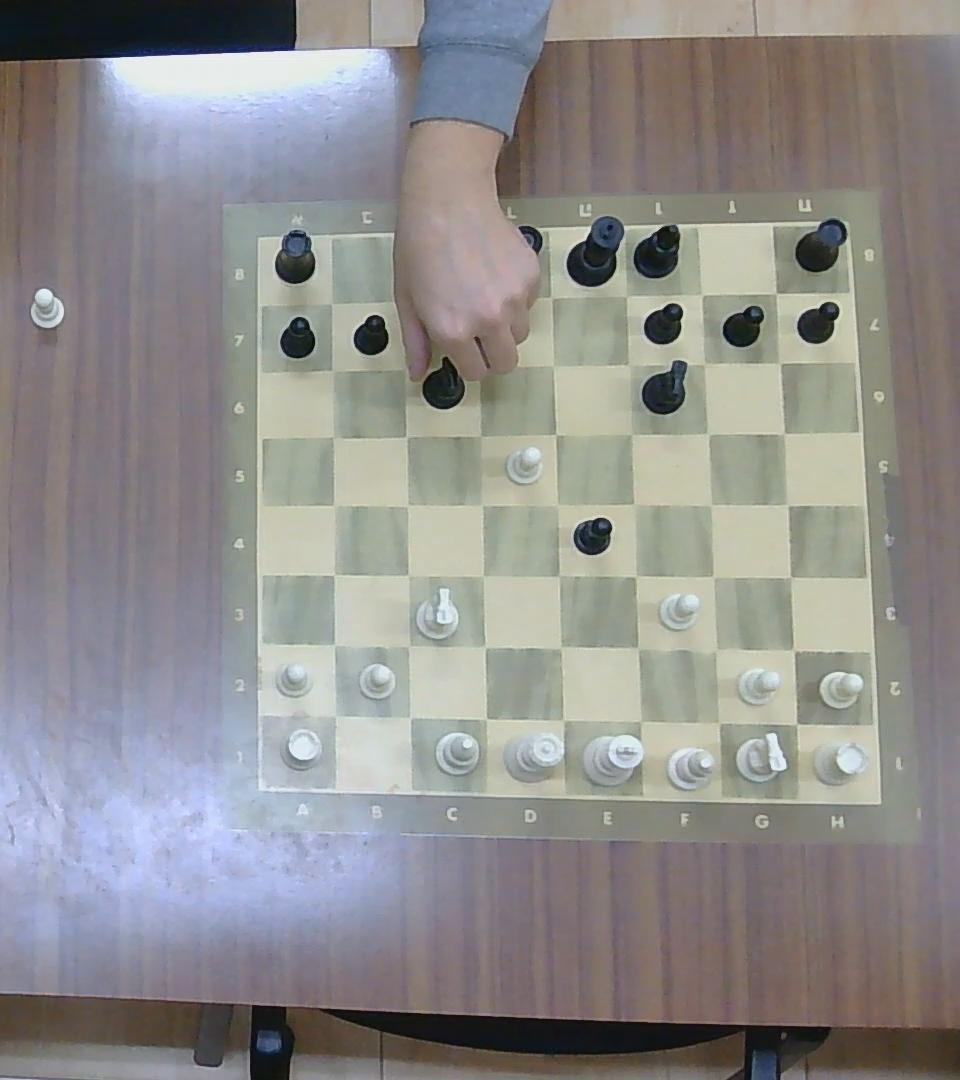xcorner: (546, 702, 579, 735), (702, 705, 734, 738), (621, 631, 653, 664), (623, 704, 656, 736), (543, 630, 575, 662), (699, 633, 731, 665), (780, 706, 812, 738), (319, 699, 350, 731), (393, 701, 424, 732), (470, 703, 501, 734), (775, 561, 805, 592), (698, 561, 728, 592), (777, 634, 808, 664), (465, 283, 496, 313), (469, 631, 499, 661), (393, 631, 423, 661), (319, 629, 349, 659), (467, 560, 496, 590), (621, 560, 650, 590), (544, 560, 573, 590), (537, 282, 566, 311), (393, 561, 423, 589), (320, 559, 348, 588), (543, 490, 572, 518), (693, 419, 722, 447), (467, 490, 495, 518), (393, 490, 421, 518), (697, 490, 725, 518), (772, 489, 801, 516), (616, 420, 645, 447), (320, 491, 348, 518), (621, 489, 649, 516), (612, 281, 640, 308), (770, 418, 798, 445), (318, 421, 345, 448), (317, 290, 345, 316), (393, 422, 419, 448), (318, 356, 344, 382), (616, 351, 642, 377), (543, 421, 568, 446), (540, 353, 565, 378), (390, 355, 415, 380), (767, 348, 792, 373), (763, 281, 789, 305), (467, 421, 491, 446), (690, 350, 715, 374), (690, 281, 714, 305), (465, 354, 489, 378), (385, 290, 410, 313)
